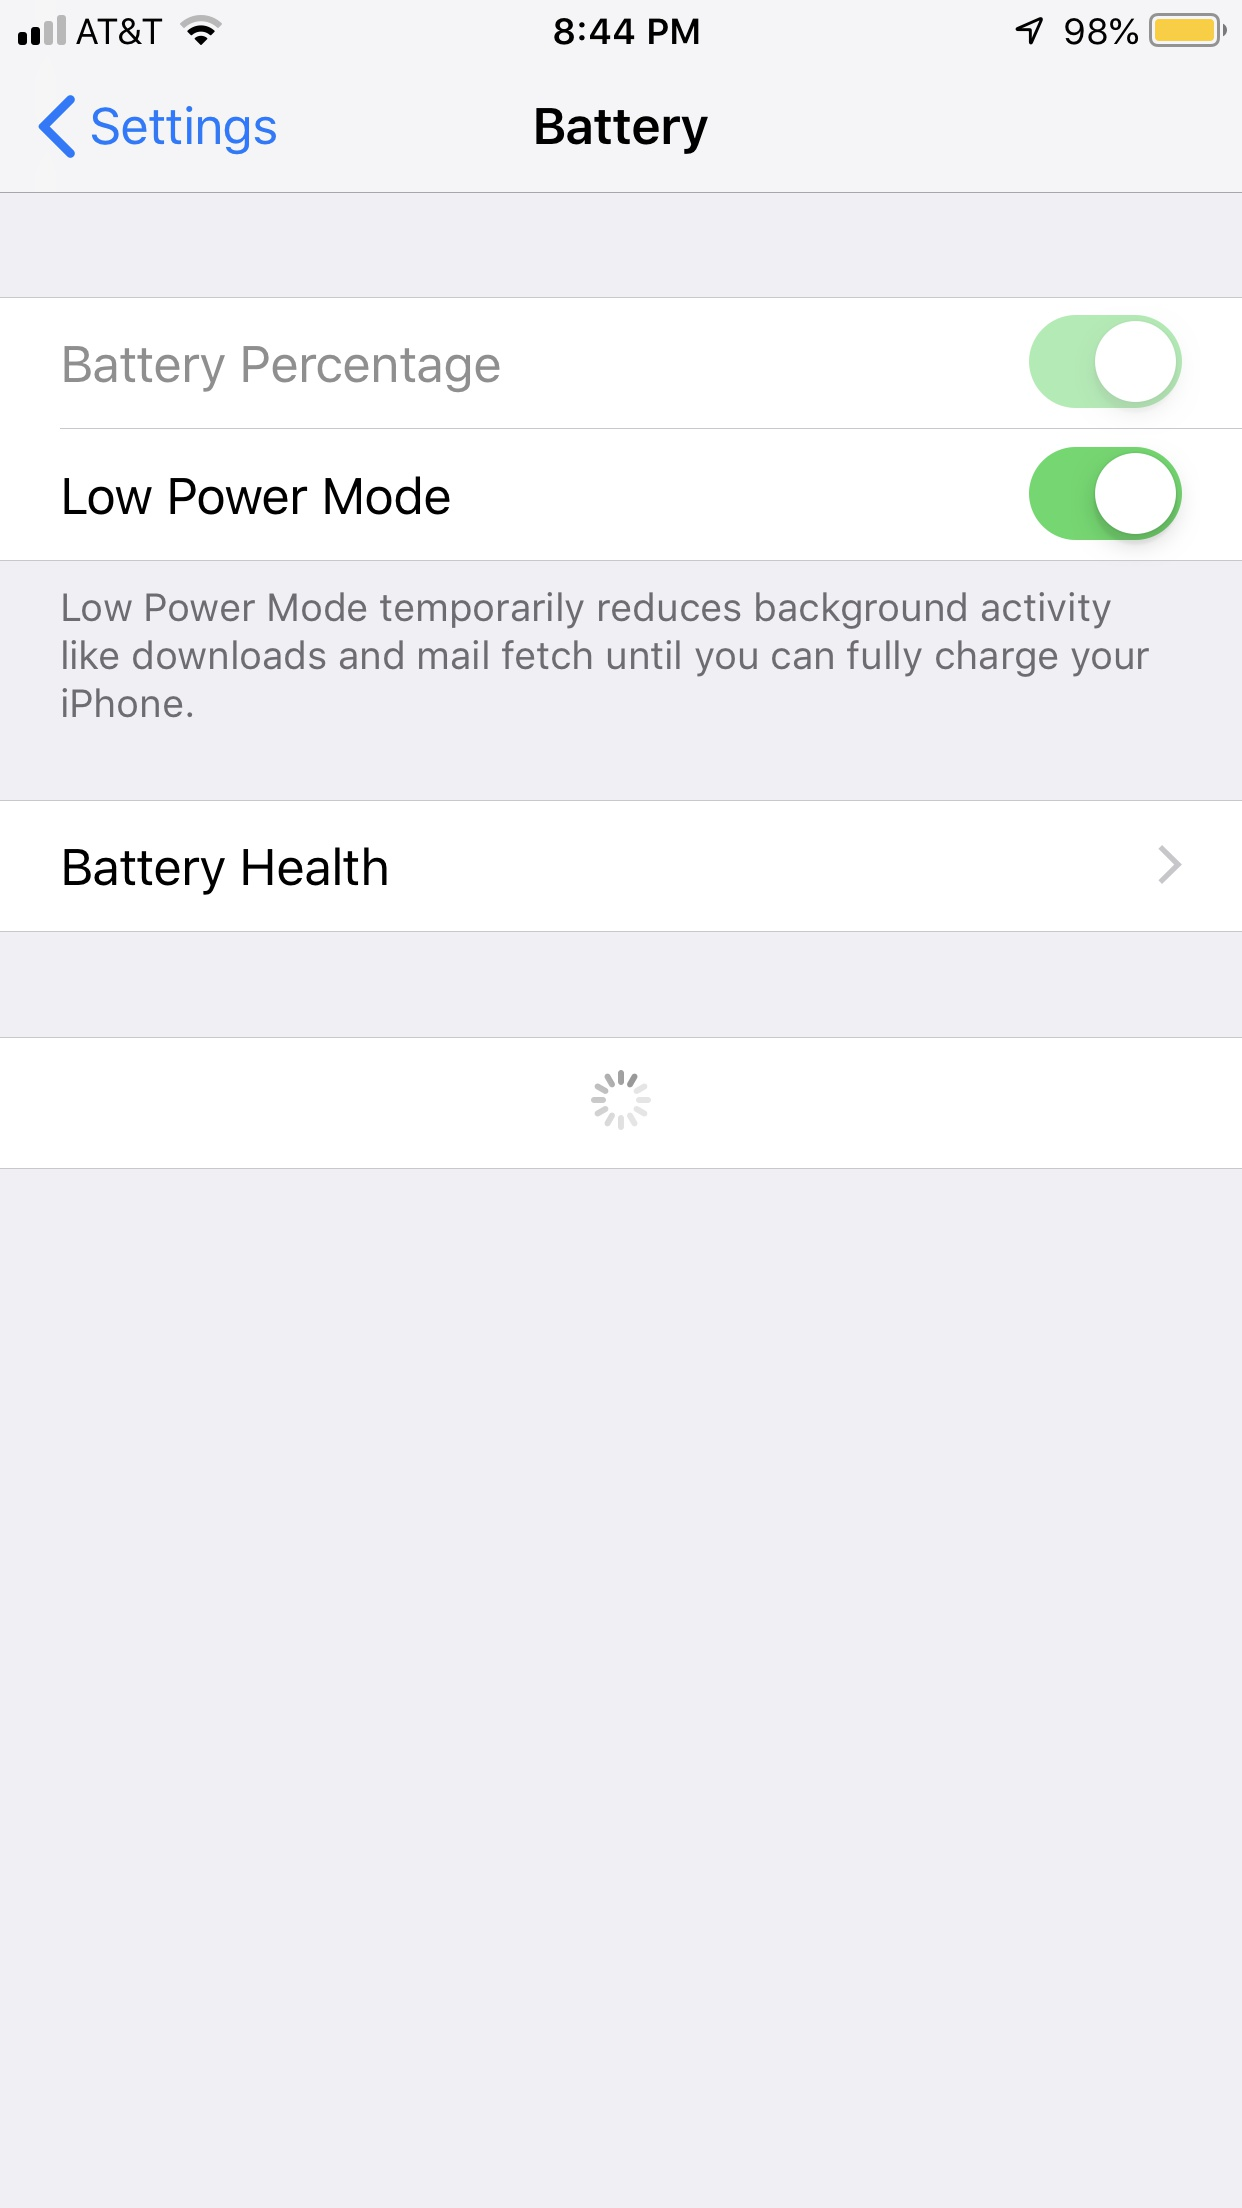Icon: (39, 96, 77, 161), (1159, 845, 1183, 886)
Switch: (1030, 314, 1183, 409), (1030, 447, 1183, 541)
Text: (64, 591, 1149, 719), (64, 346, 500, 394), (64, 848, 388, 896), (64, 476, 450, 516), (93, 106, 278, 156), (535, 108, 710, 156)
UpperTaskBar: (2, 2, 1242, 49)
